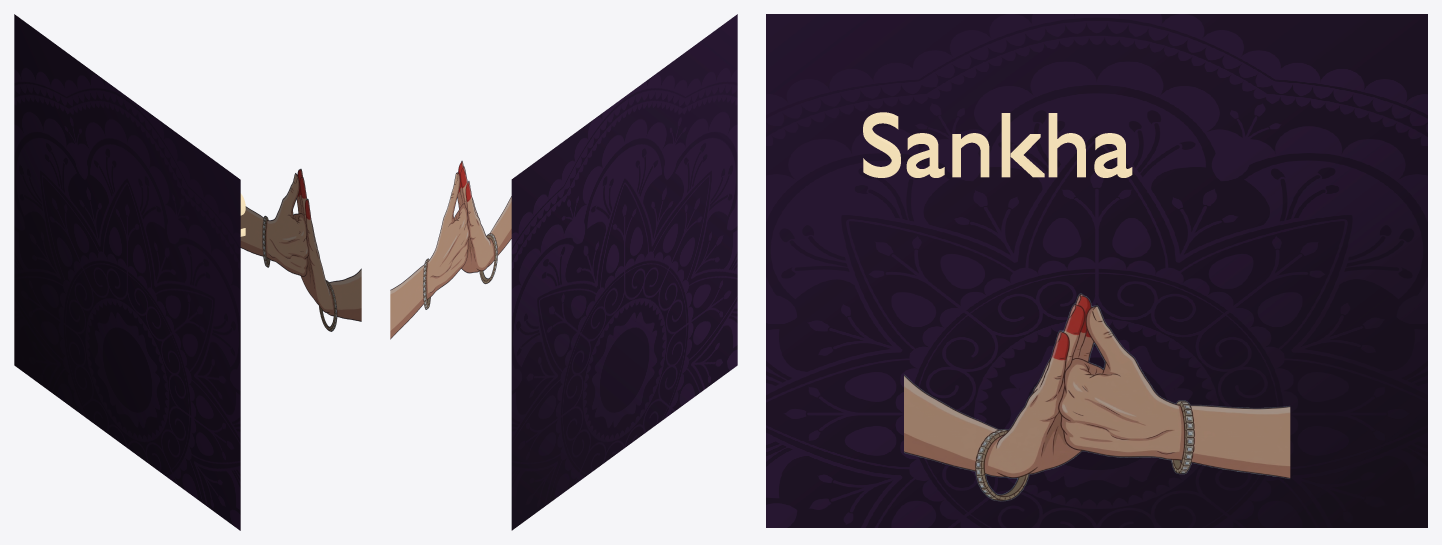
Rendered from Sankha.glb.
3 views of the same model, side by side, from view 1: azimuth 30°, elevation 25°; view 2: azimuth 150°, elevation 25°; view 3: azimuth 270°, elevation 25° (orthographic). The views are drawn at different scales.
Visible parts, largest first — view 1: Plane.011, Anjali.011; view 2: Plane.011, Anjali.011; view 3: Plane.011, Anjali.011, Text.033.
Boxes of the visible parts, bbox=[...] form: Plane.011: bbox=[14, 14, 240, 530]; Anjali.011: bbox=[240, 168, 361, 331]; Plane.011: bbox=[511, 14, 737, 530]; Anjali.011: bbox=[390, 160, 511, 339]; Plane.011: bbox=[766, 14, 1427, 527]; Anjali.011: bbox=[904, 293, 1290, 501]; Text.033: bbox=[863, 112, 1132, 177].
Size of the model in its own units: 1.53 by 3.05 by 3.56.
3 materials, 2 textured.
